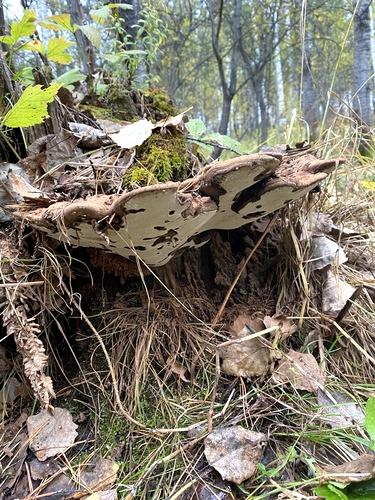Ganoderma - Fruit Body: (6, 141, 350, 269)
